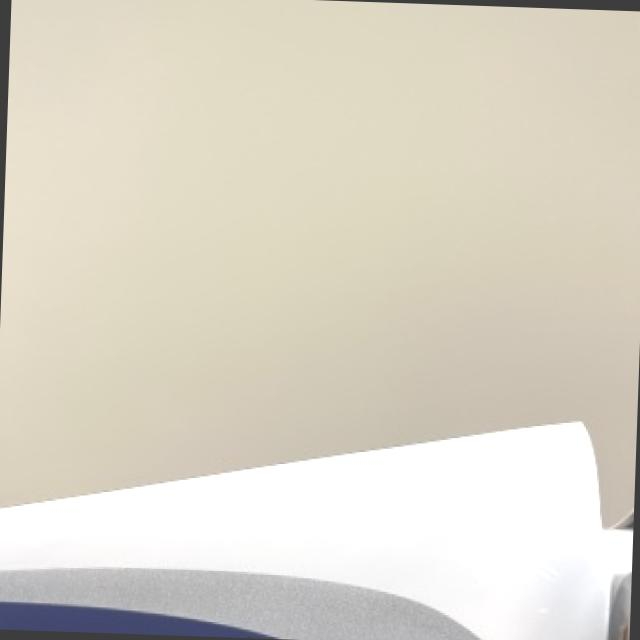healthy: (0, 422, 633, 640)
